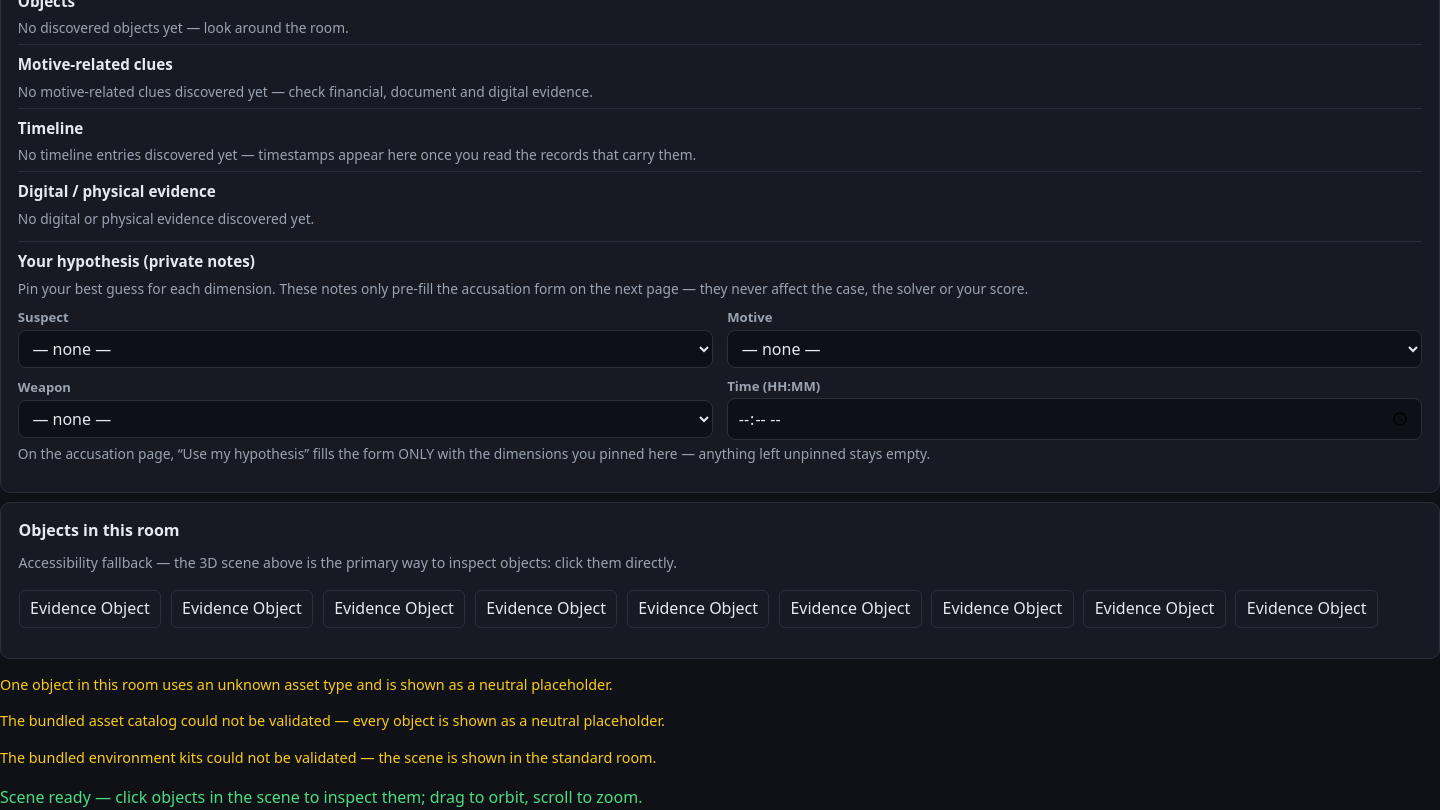
Test: Phase 47 — selecting the victim opens the investigation record › closes via the Close button (selection + panel cleared)
(page scrolled)
Click the 9th button "Evidence Object" at x=1307, y=609, box [1235, 590, 1378, 628]
(page scrolled)
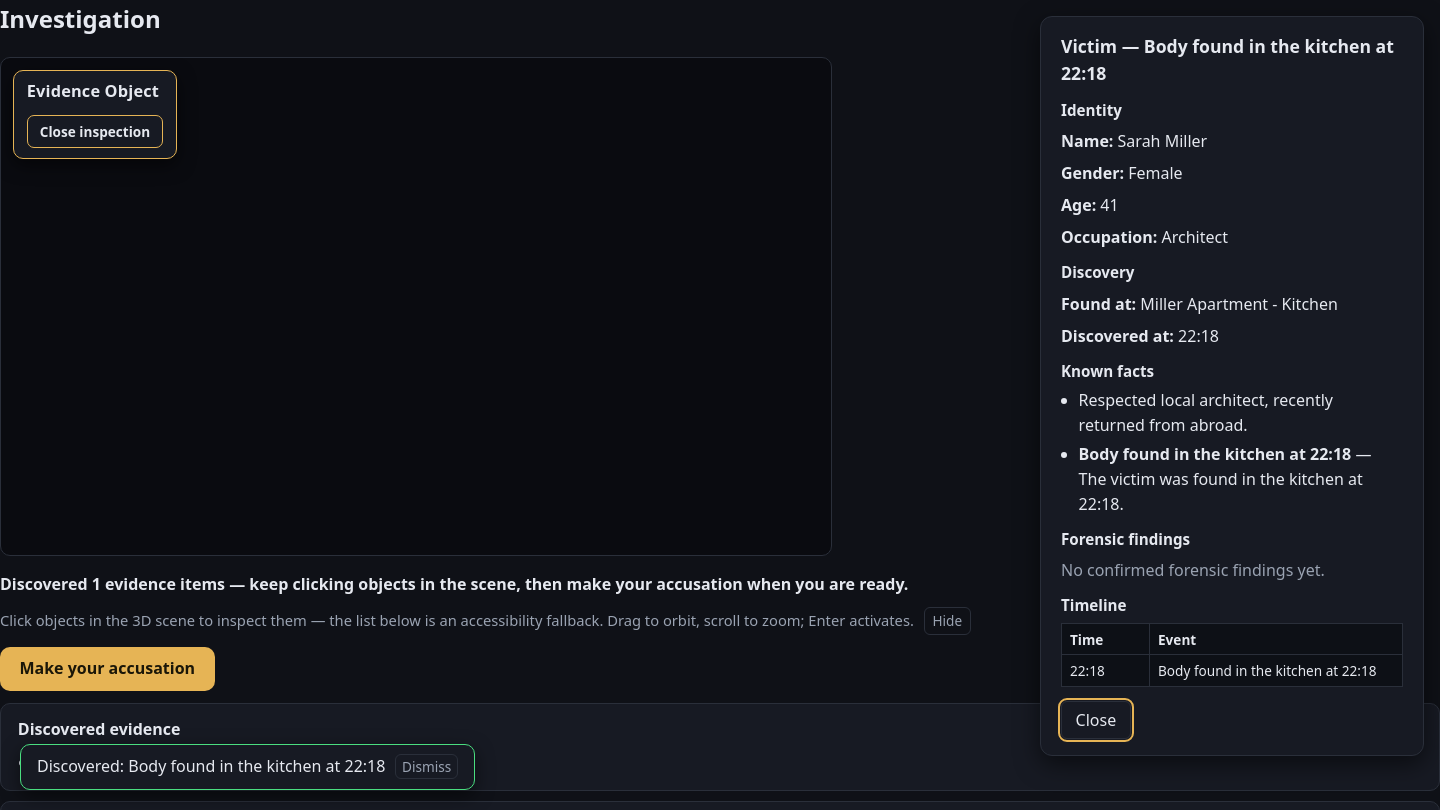
Now the dialog with test id "victim-panel" is shown, box [1040, 16, 1424, 756]
Click the button with test id "victim-close" at x=1096, y=720, box [1061, 702, 1131, 740]
(page scrolled)
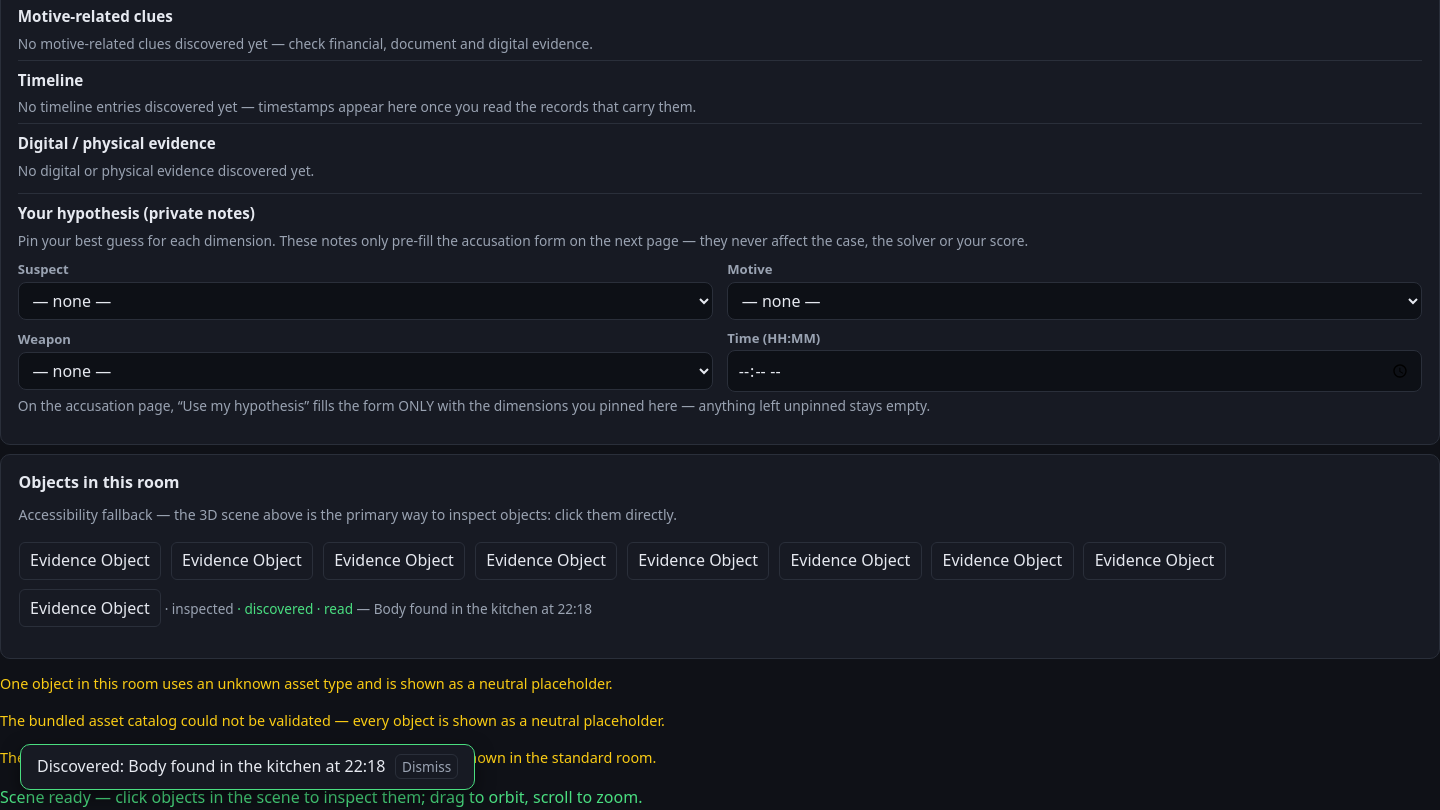
Now the dialog with test id "victim-panel" is gone
